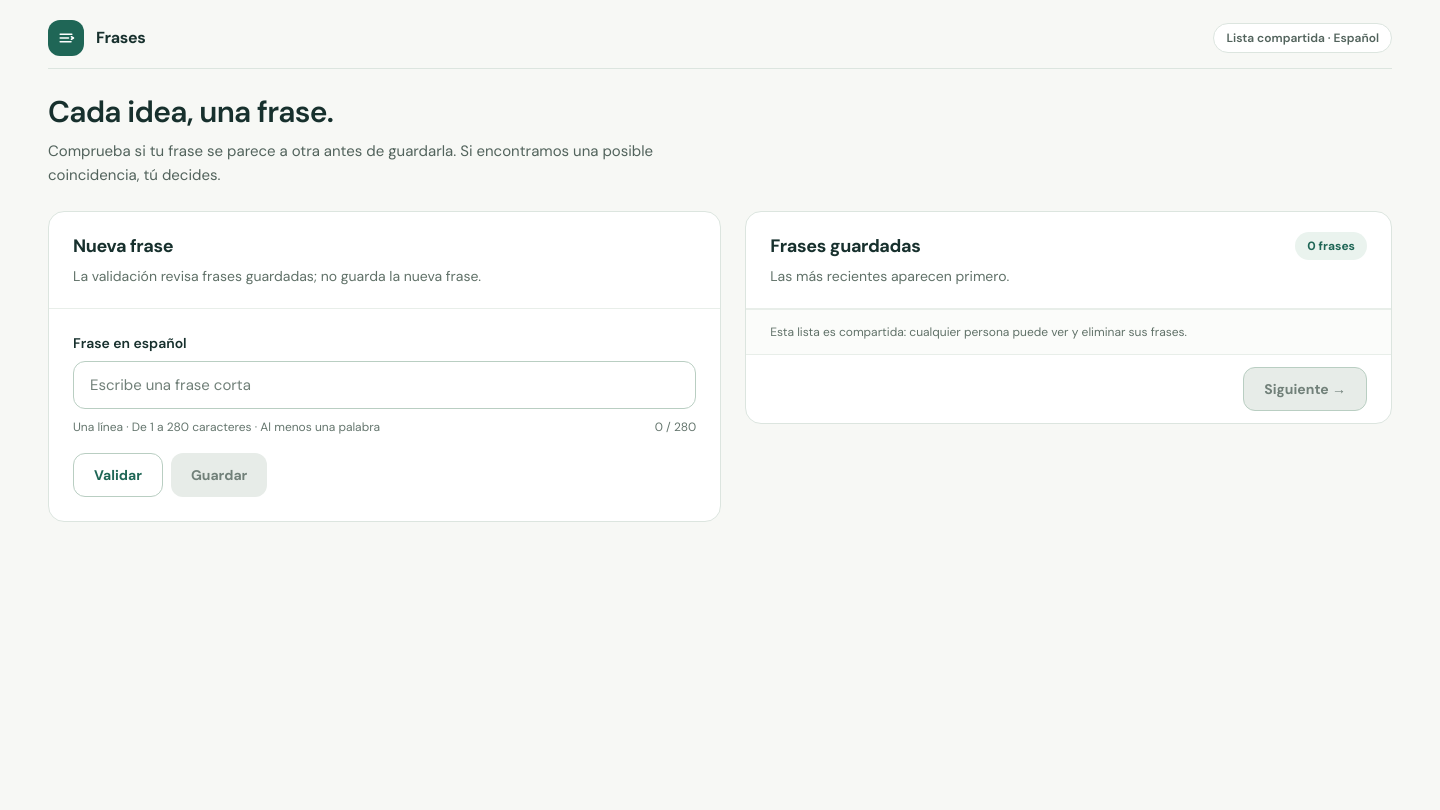
PhrasesPage › refreshes the list after validating and saving a phrase
Check: the text "0 frases" is shown, box [1295, 232, 1367, 260]
Type "Hola mundo" into the field labelled "Frase en español".
click(385, 384); type("Hola mundo")  # box [73, 360, 696, 408]
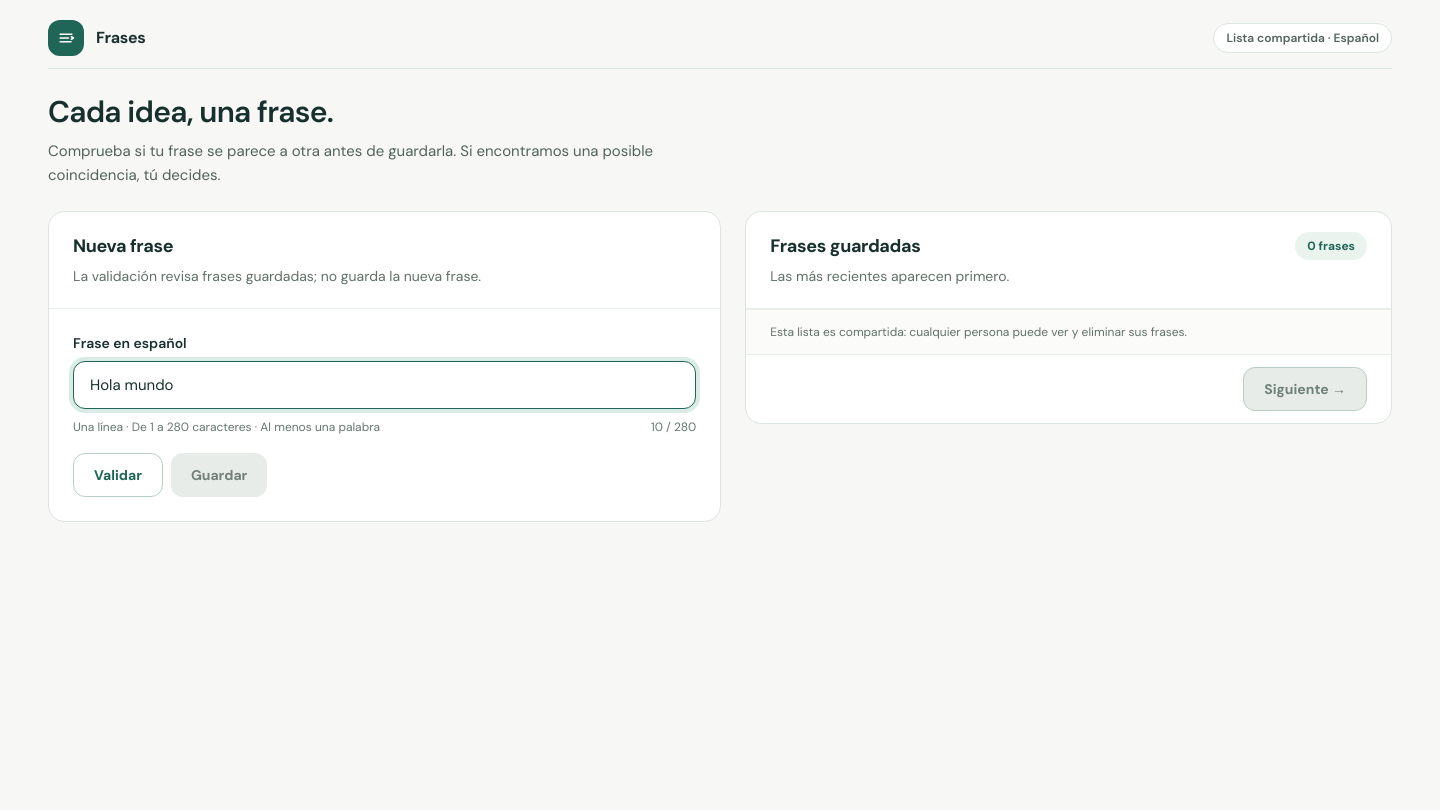
Click the button "Validar".
click(118, 474)  # box [73, 452, 163, 496]
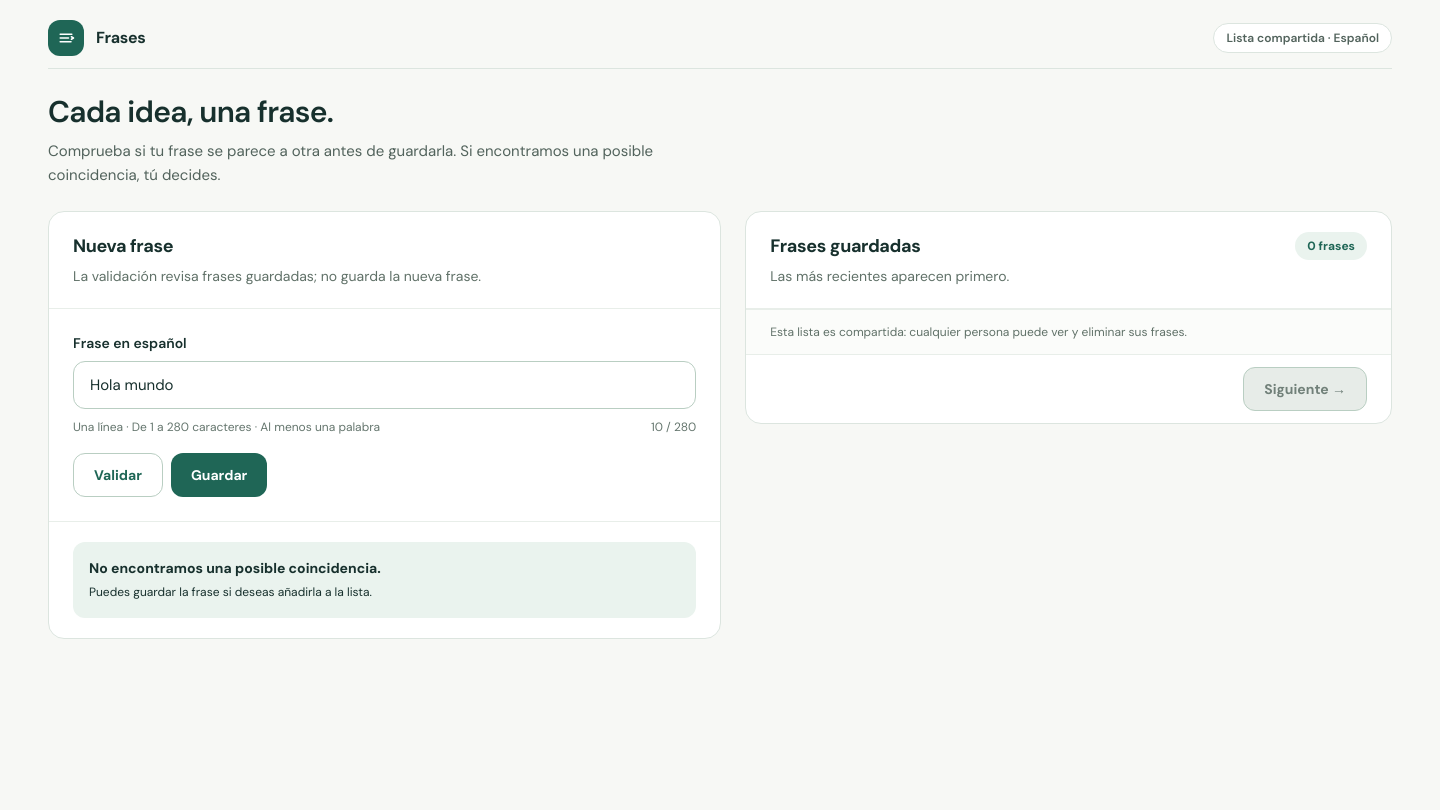
Check: the text "No encontramos una posible coincidencia." is shown, box [89, 558, 381, 576]
Click the button "Guardar".
click(219, 474)  # box [171, 452, 267, 496]
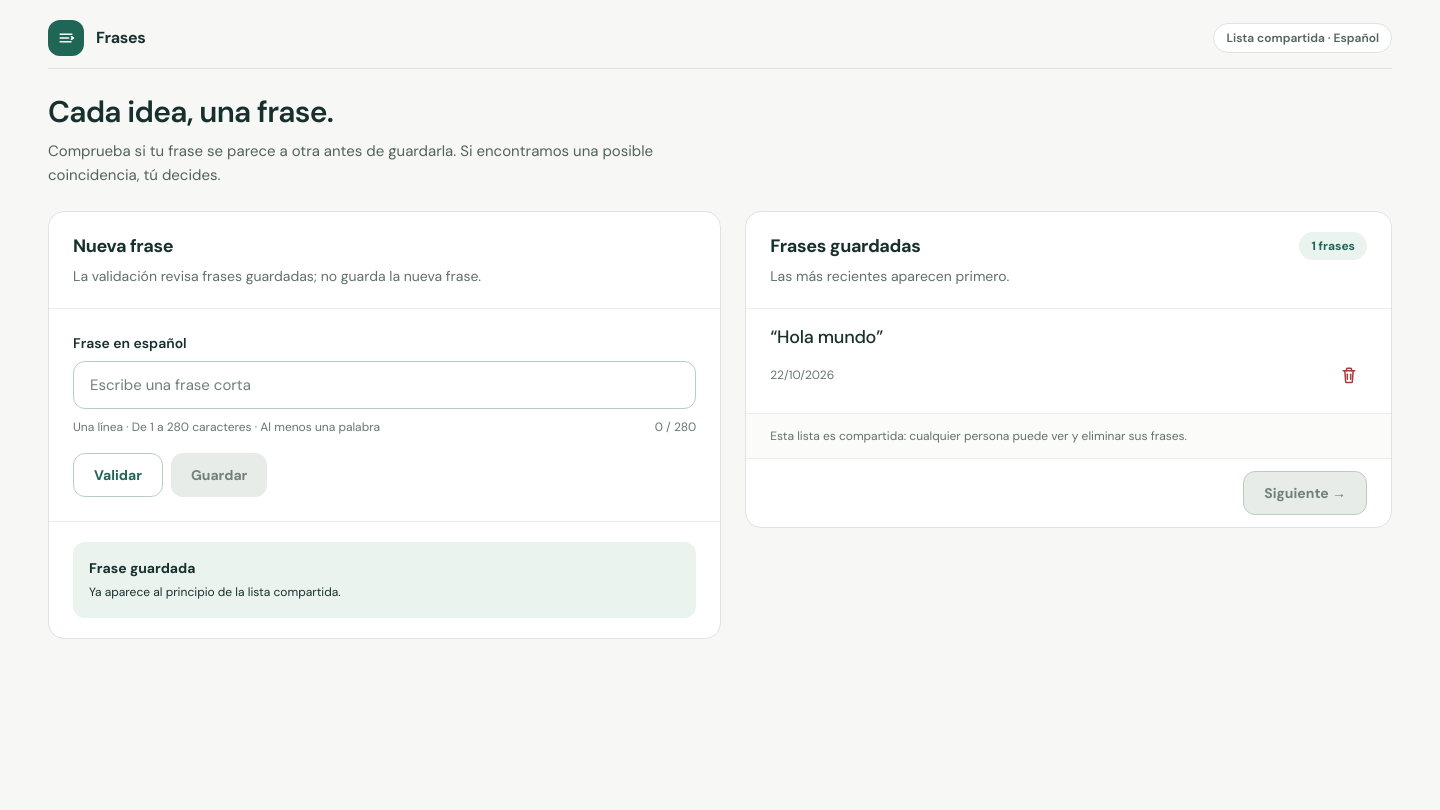
Check: the text "Frase guardada" is shown, box [89, 558, 195, 576]
Check: the text "“Hola mundo”" is shown, box [770, 324, 883, 348]
Check: the text "1 frases" is shown, box [1299, 232, 1367, 260]
